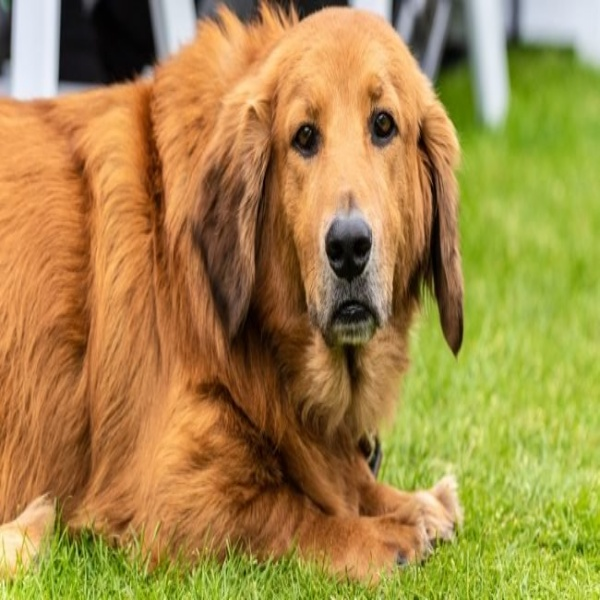dog: (1, 6, 465, 575)
